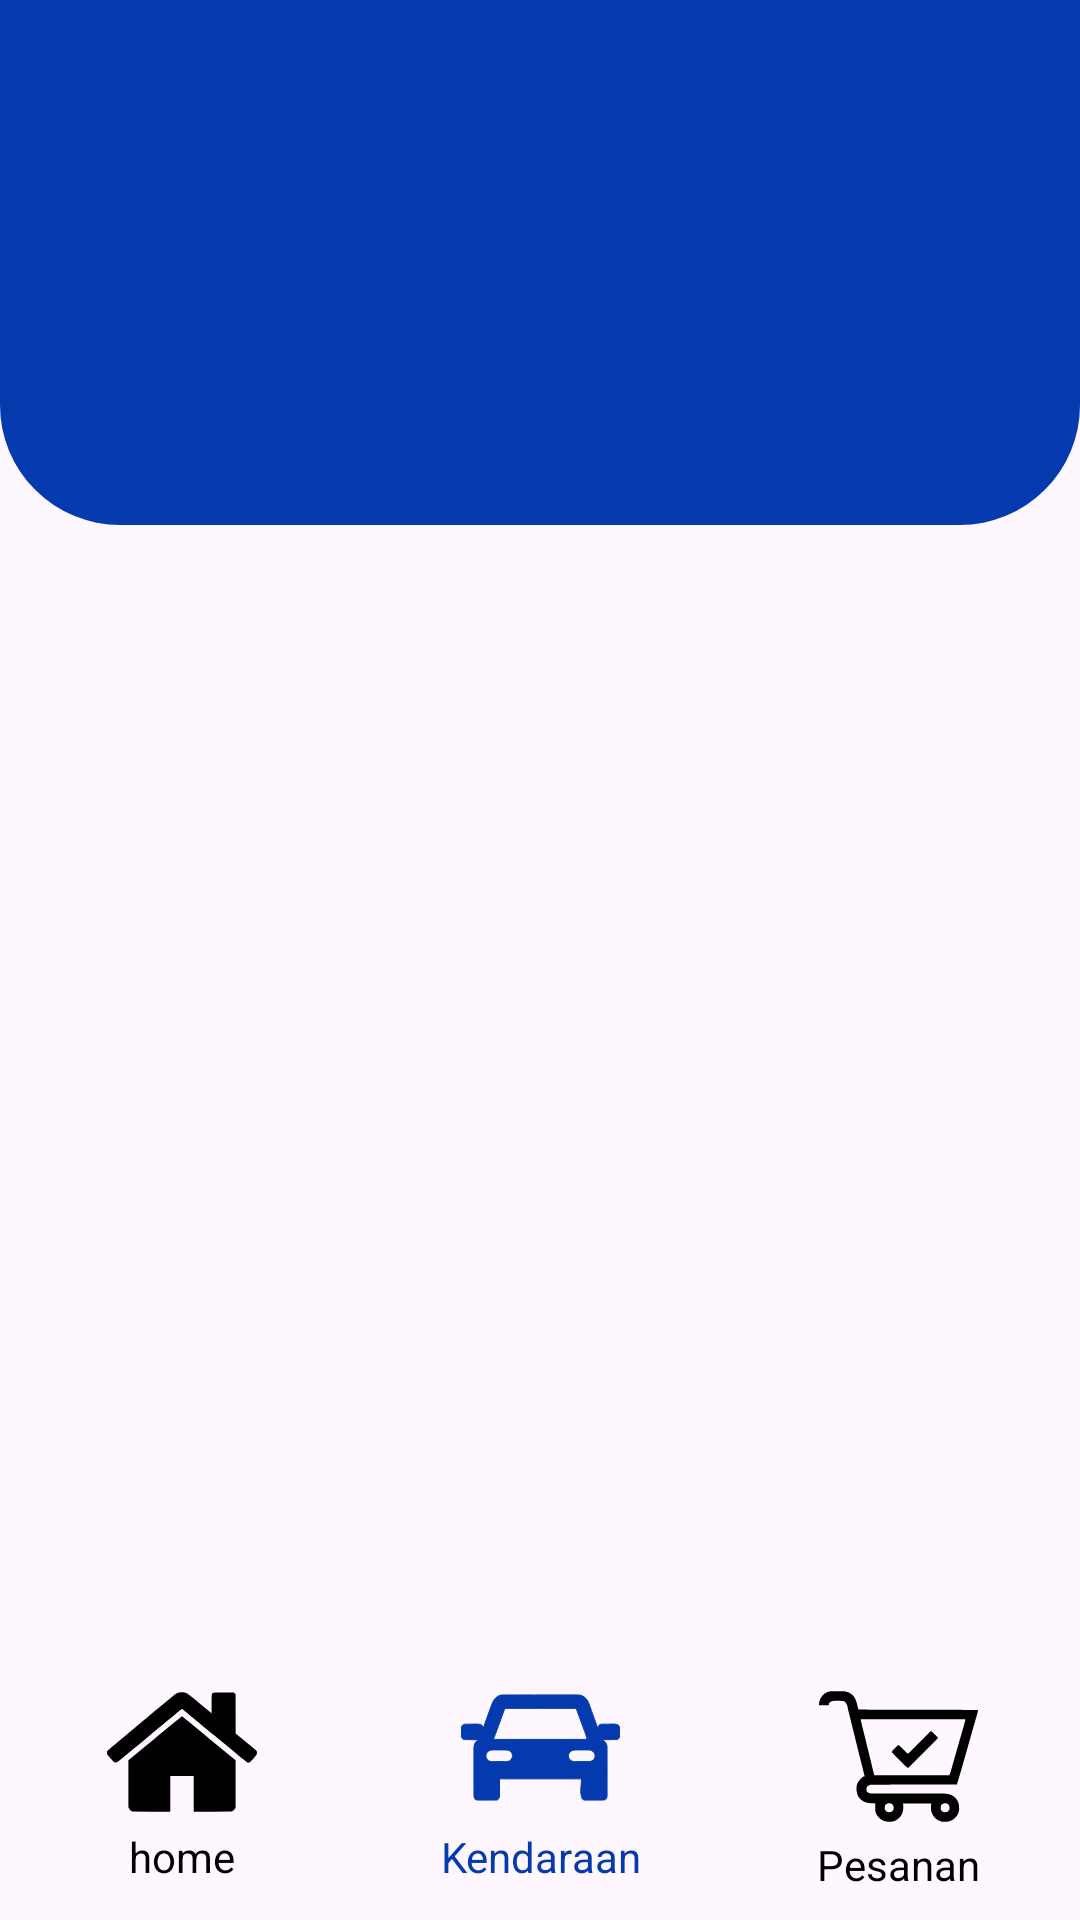

Icons on this 1080px x 1920px Android screen, each with its box as [x1,y1,x2,y2]:
checkout: [819,1691,978,1822]
